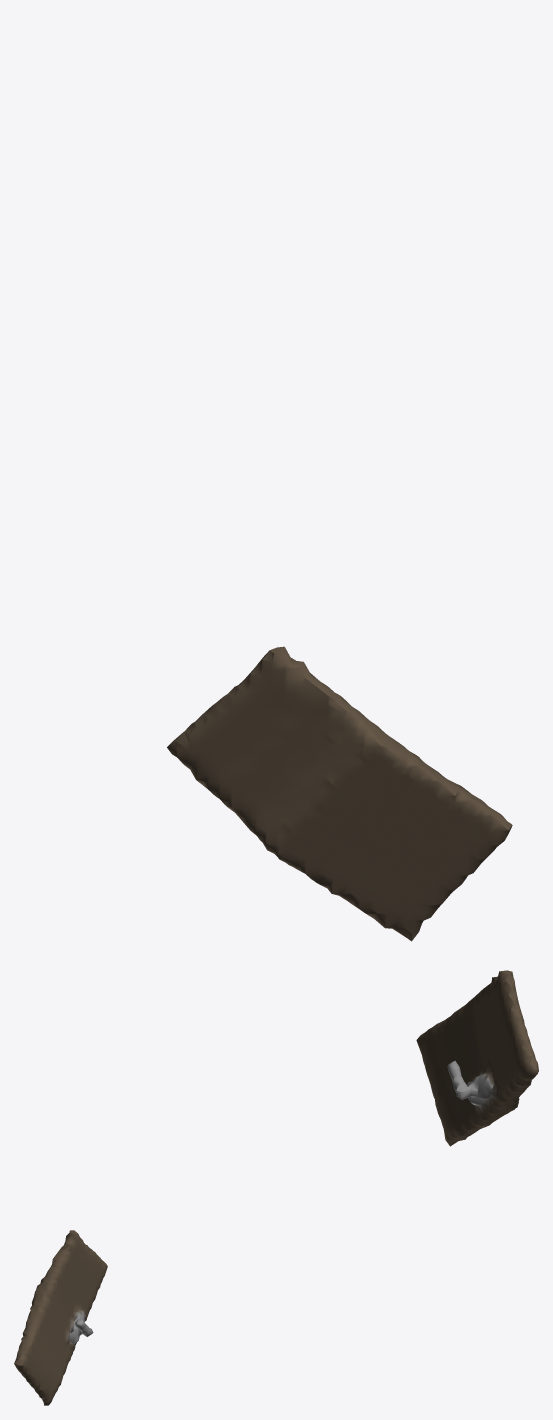
The model's file is chloe-door.gltf.
3 views of the same model, one above another, from view 1: azimuth 30°, elevation 25°; view 2: azimuth 150°, elevation 25°; view 3: azimuth 270°, elevation 25° (orthographic). The views are drawn at different scales.
Visible parts, largest first — view 1: door-2; view 2: door-2; view 3: door-2.
Boxes of the visible parts, x1,y1,x2,y2 form: door-2: (167,646,512,941); door-2: (416,970,538,1146); door-2: (14,1230,107,1405).
Bounding box in the file's own units: 32.83 × 51.01 × 91.51.
Materials: 1 (1 with a texture image).
